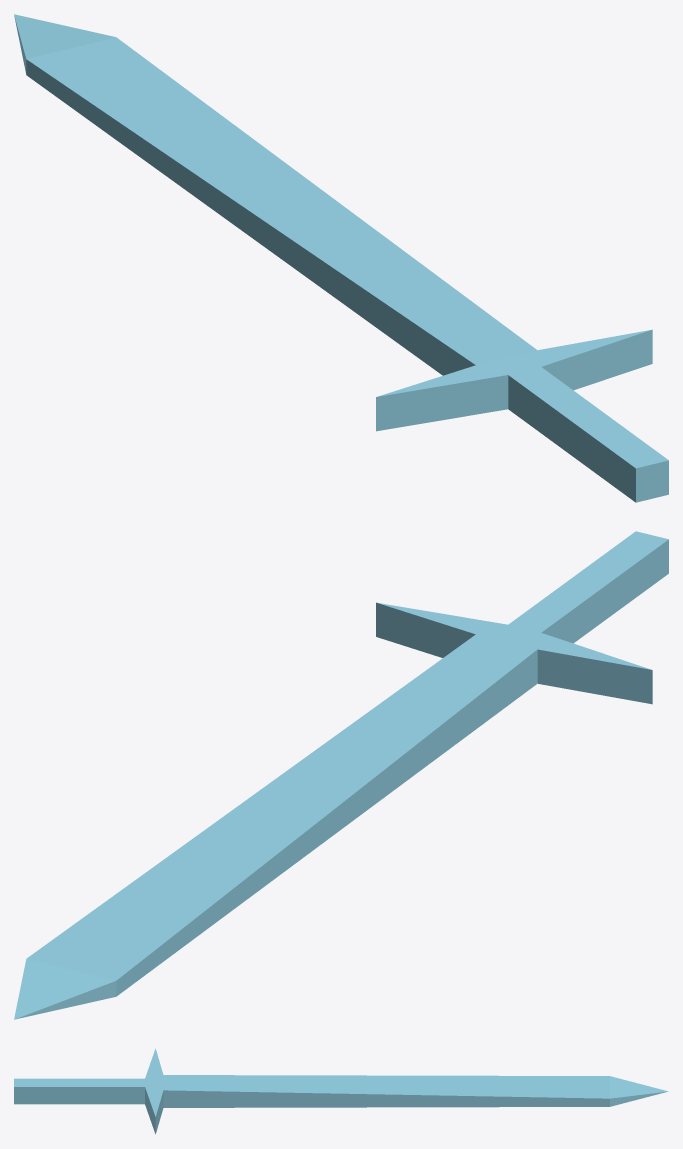
File: sword.FBX
3 renders of one model, top to bottom at view 1: azimuth 30°, elevation 25°; view 2: azimuth 150°, elevation 25°; view 3: azimuth 270°, elevation 25°, orthographic. The views are drawn at different scales.
Visible parts, largest first — view 1: sword; view 2: sword; view 3: sword.
Boxes of the visible parts, box(x1,y1,x2,y2) form: sword: box(14, 14, 668, 502); sword: box(14, 531, 668, 1019); sword: box(14, 1048, 668, 1134).
Size of the model in its own units: 21.11 by 2.5 by 84.4.
